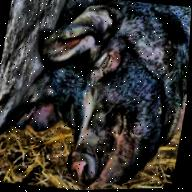boar: (37, 7, 191, 191)
